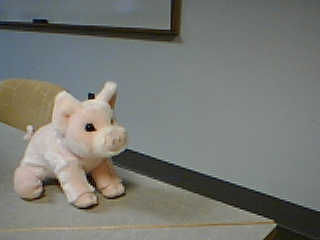piggy: (13, 81, 129, 210)
